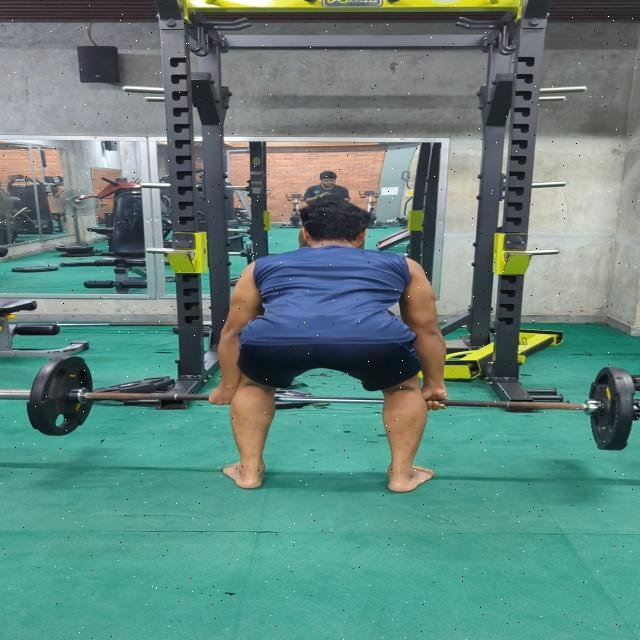Normal_Deadlifts: (201, 200, 450, 493)
